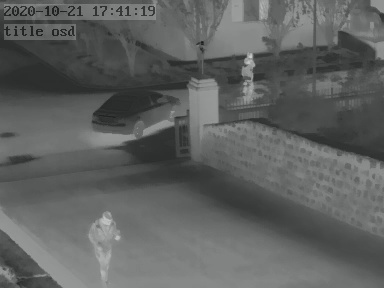person: (88, 211, 122, 288), (243, 53, 256, 100)
vehicle: (87, 87, 179, 136)
